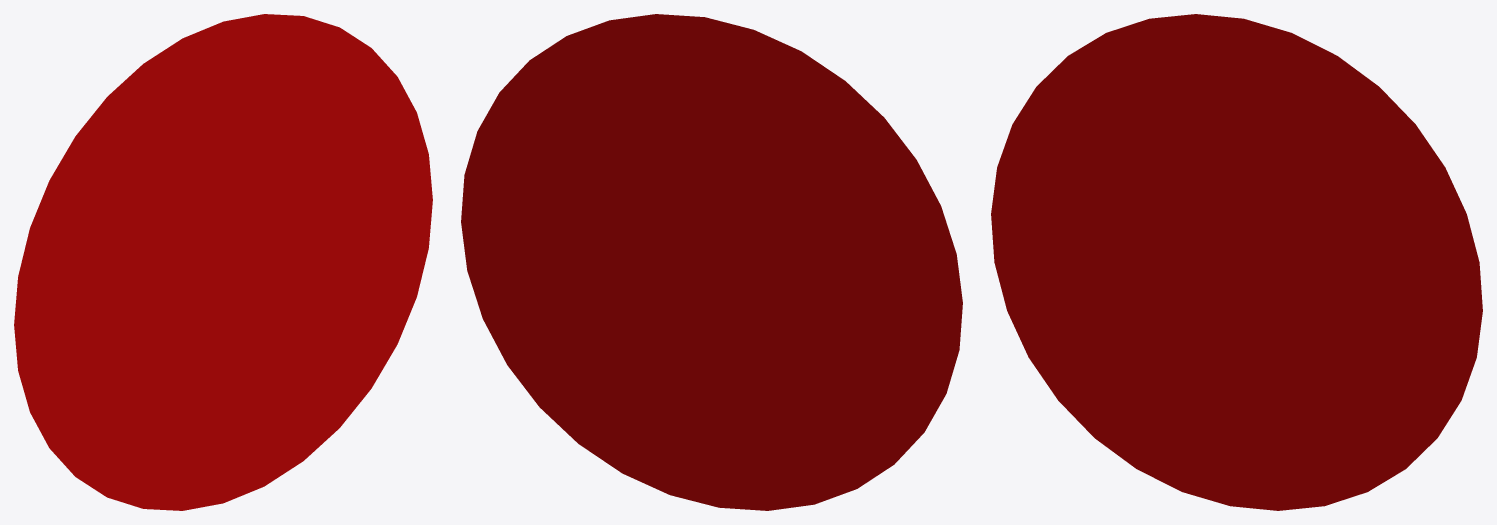
File: ButtonsGlass_MouseRed_0.dae
3 renders of one model, left to right at view 1: azimuth 30°, elevation 25°; view 2: azimuth 150°, elevation 25°; view 3: azimuth 330°, elevation 25°, orthographic. The views are drawn at different scales.
Parts seen in each view (by area): view 1: ButtonsGlass_MouseRed_0; view 2: ButtonsGlass_MouseRed_0; view 3: ButtonsGlass_MouseRed_0.
Boxes of the visible parts, x1,y1,x2,y2 form: ButtonsGlass_MouseRed_0: (14, 14, 432, 510); ButtonsGlass_MouseRed_0: (461, 14, 962, 510); ButtonsGlass_MouseRed_0: (991, 14, 1482, 510).
Size of the model in its own units: 0.00738 by 0.00743 by 0.000927.
